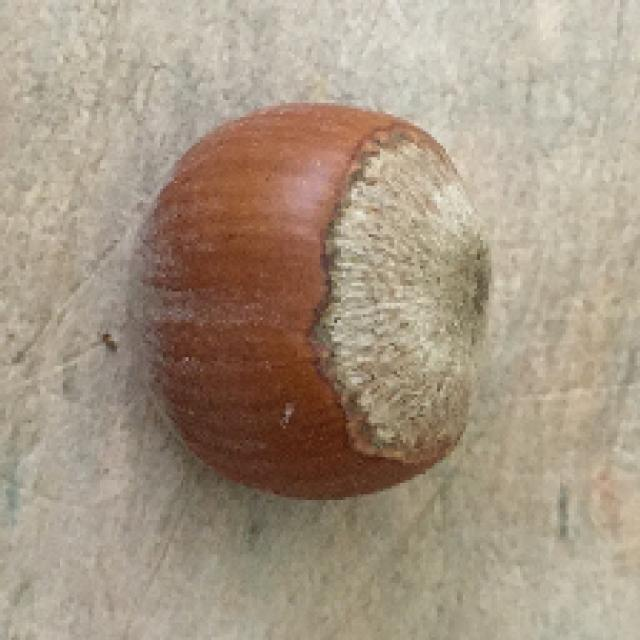qualityHazelnut: (125, 101, 493, 496)
